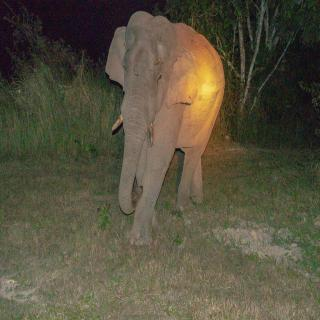Elephant: (102, 5, 228, 249)
